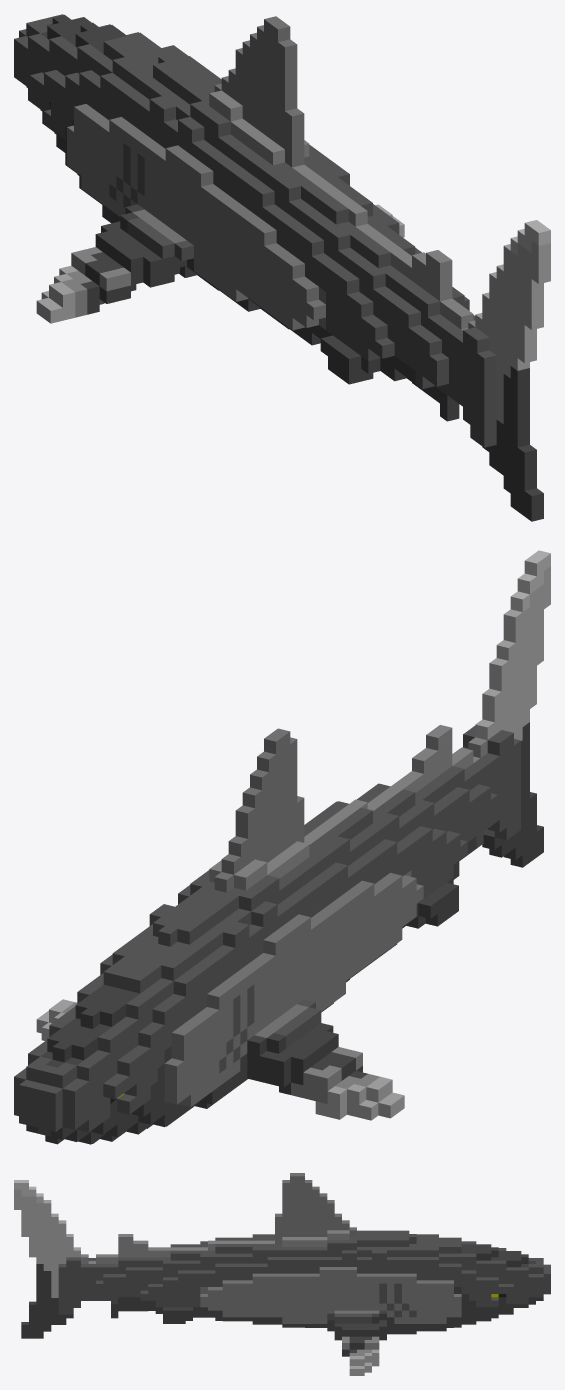
File: shark.obj
3 renders of one model, top to bottom at view 1: azimuth 30°, elevation 25°; view 2: azimuth 150°, elevation 25°; view 3: azimuth 270°, elevation 25°, orthographic. The views are drawn at different scales.
Parts seen in each view (by area): view 1: node 1; view 2: node 1; view 3: node 1.
Part boxes in pixels (x1,y1,x2,y2): node 1: (14, 14, 550, 521); node 1: (14, 550, 550, 1144); node 1: (14, 1173, 550, 1375).
Size of the model in its own units: 2.9 by 2.4 by 7.2.
1 material, 1 textured.
